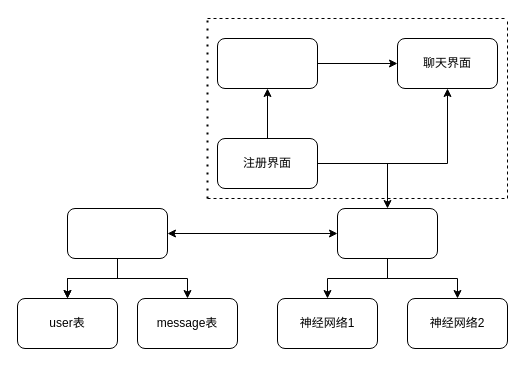
Some shapes in this 526 by 366 pixel diagram are drawn without their labels. Here are the shapes that lost their labels. From the top down, the centre of each, then its label:
At point 267,63: "登陆界面".
At point 117,233: "数据库".
At point 387,233: "后端".
